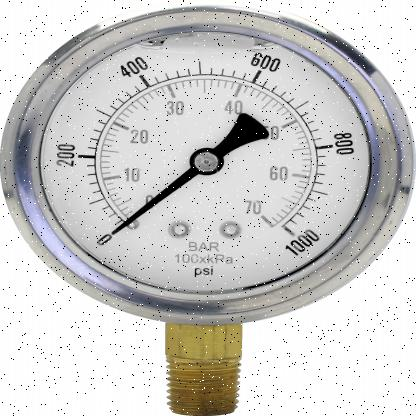needle: (110, 166, 200, 236)
